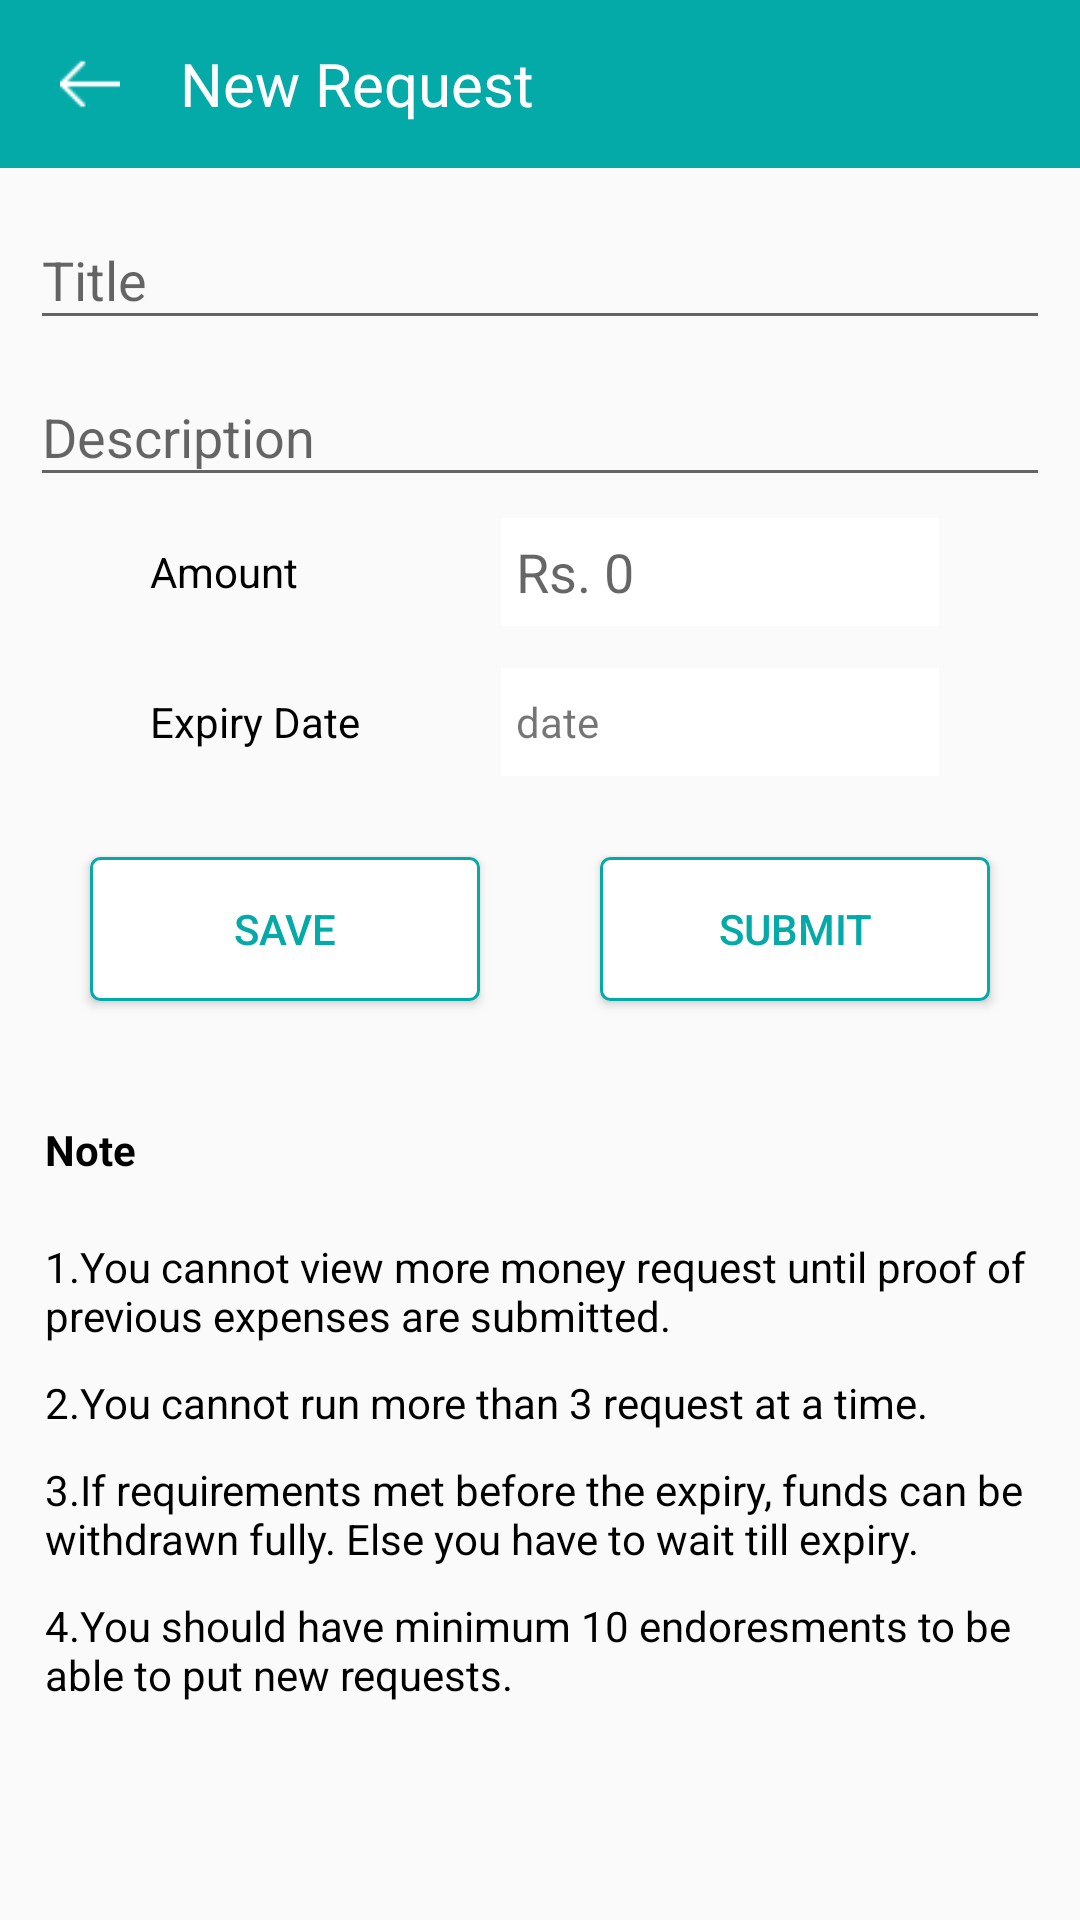

Named icons in this screenshot (1080px x 1920px) and their centers, (x,y):
back: (90,84)
